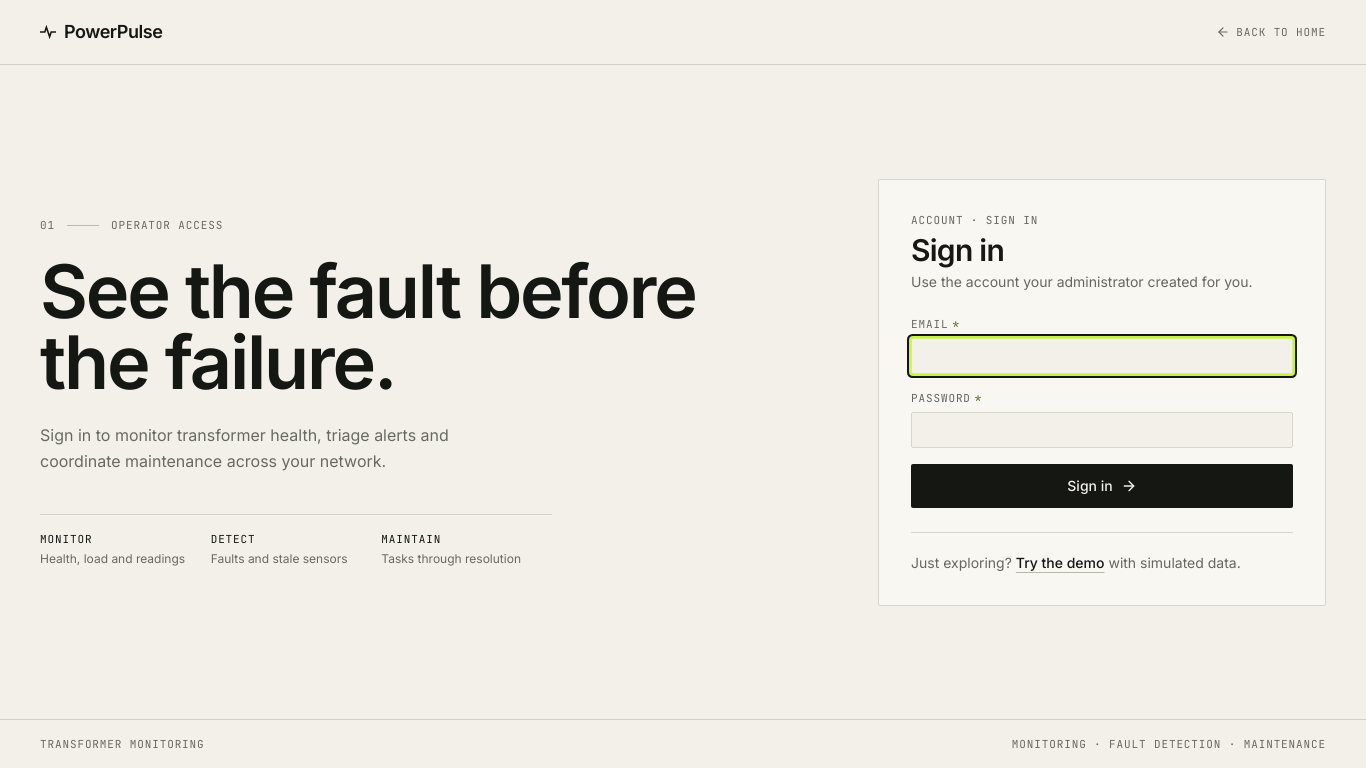
Test: LoginPage › rejects a malformed email
Type "not-an-email" into the field labelled "Email*" at x=1102, y=356, box [911, 338, 1293, 374]
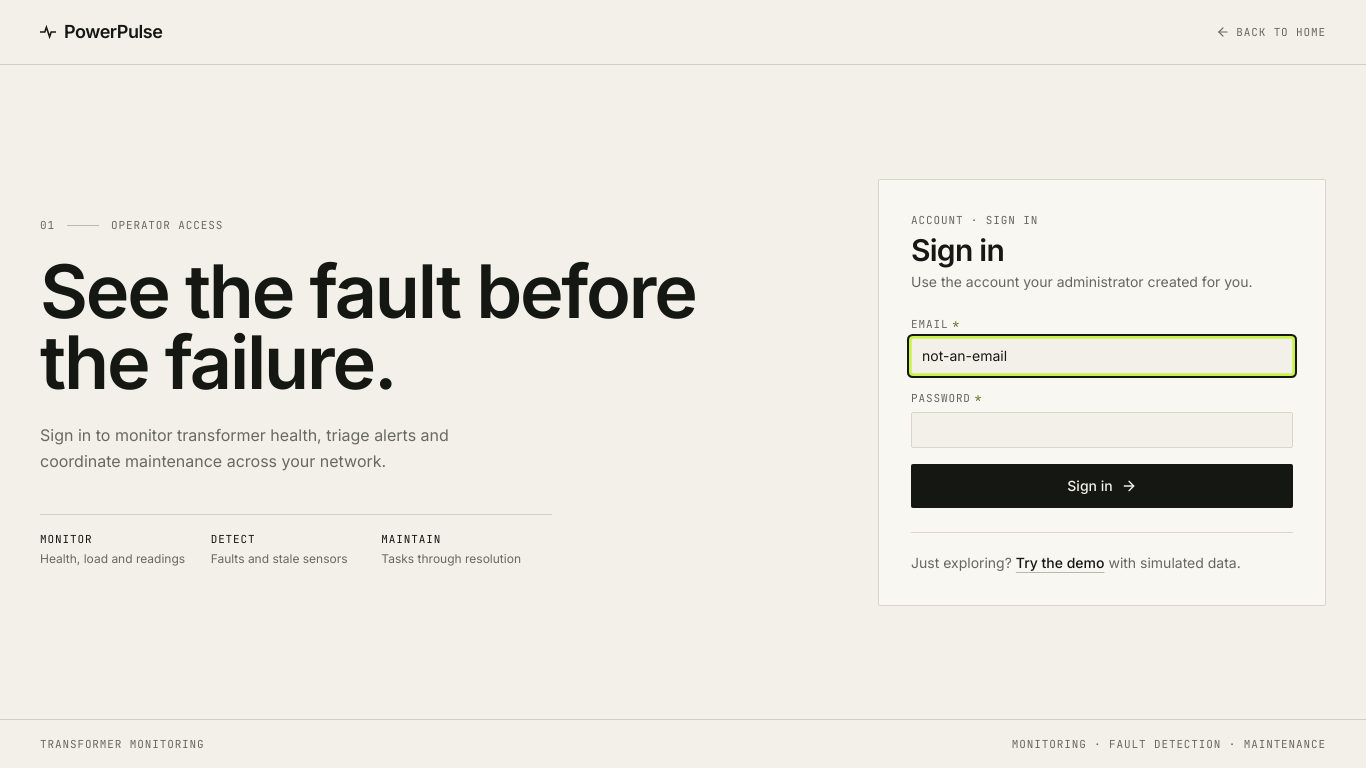
Type "x" into the password field labelled "Password*" at x=1102, y=430, box [911, 412, 1293, 448]
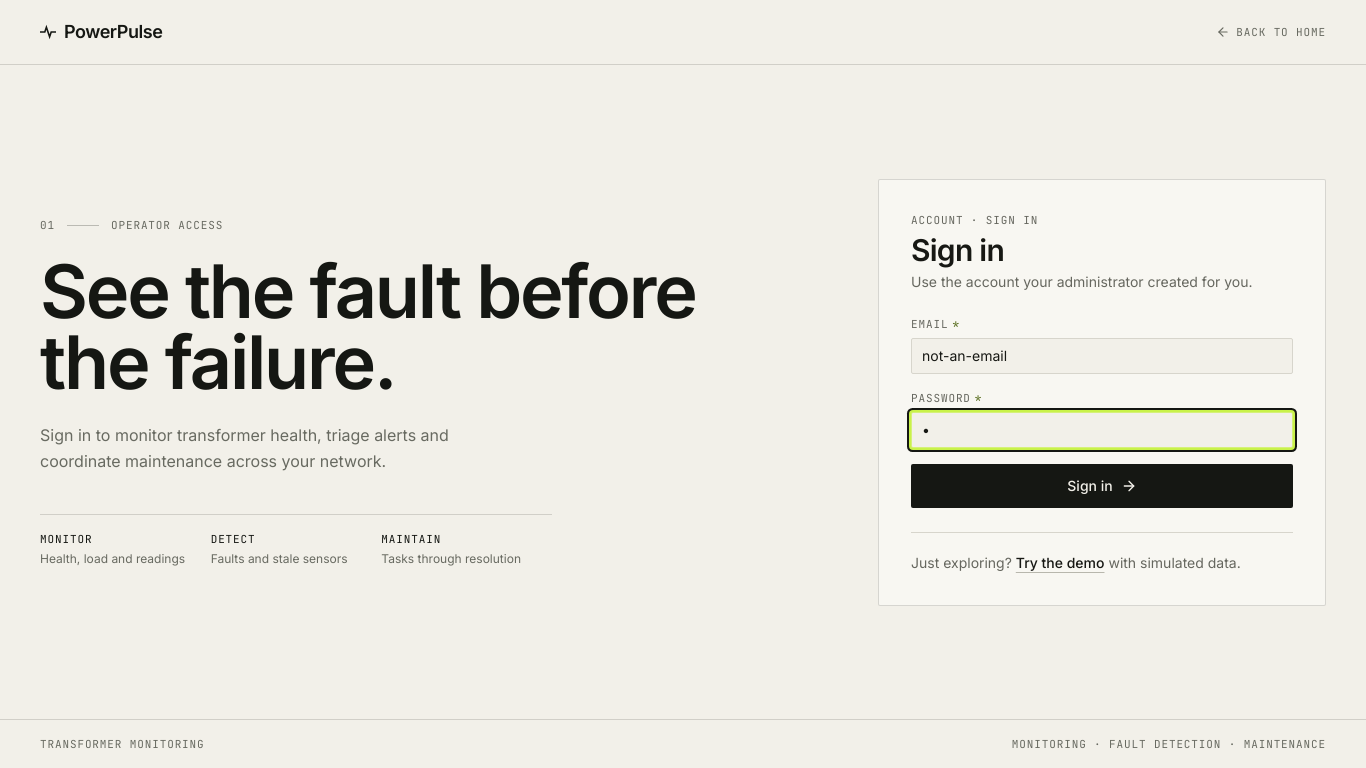
Click the button "Sign in" at x=1102, y=486, box [911, 464, 1293, 508]
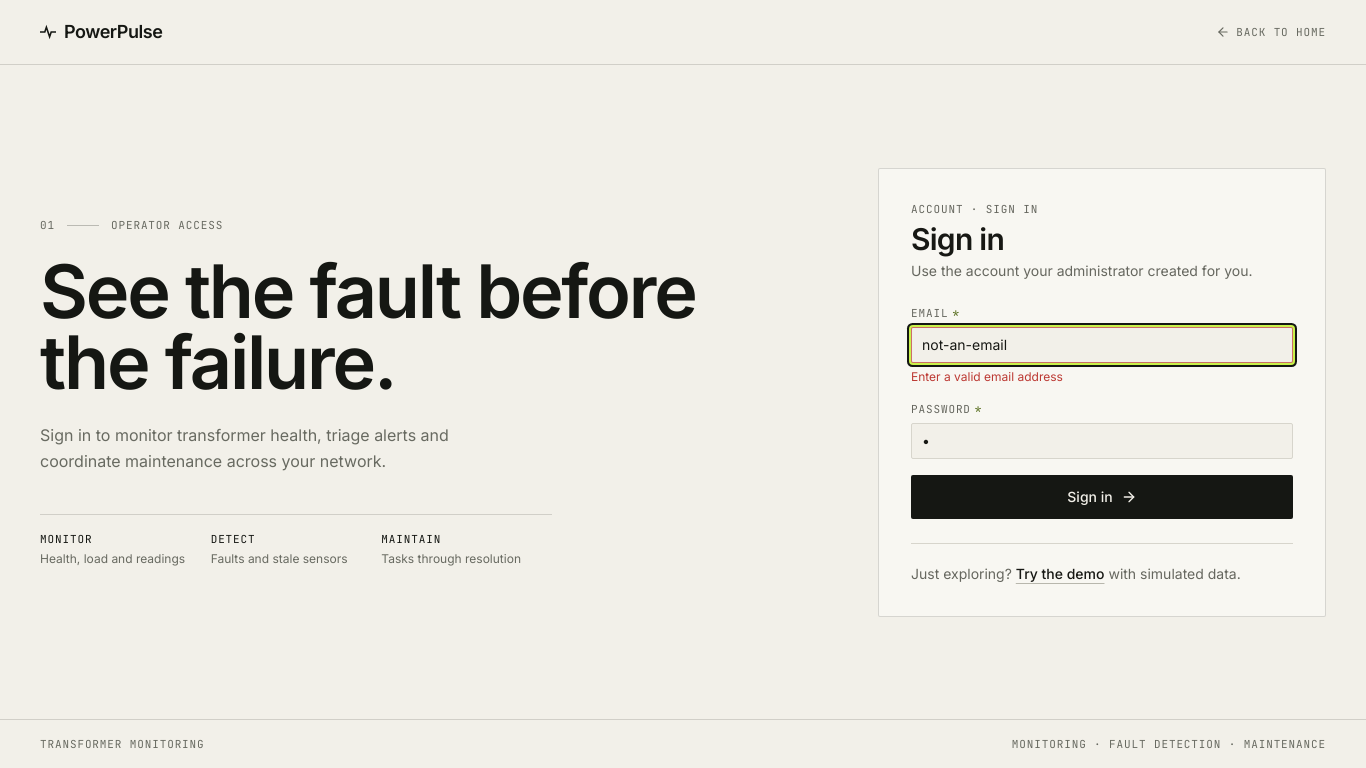
Now the text "Enter a valid email address" is shown, box [911, 368, 1063, 384]
